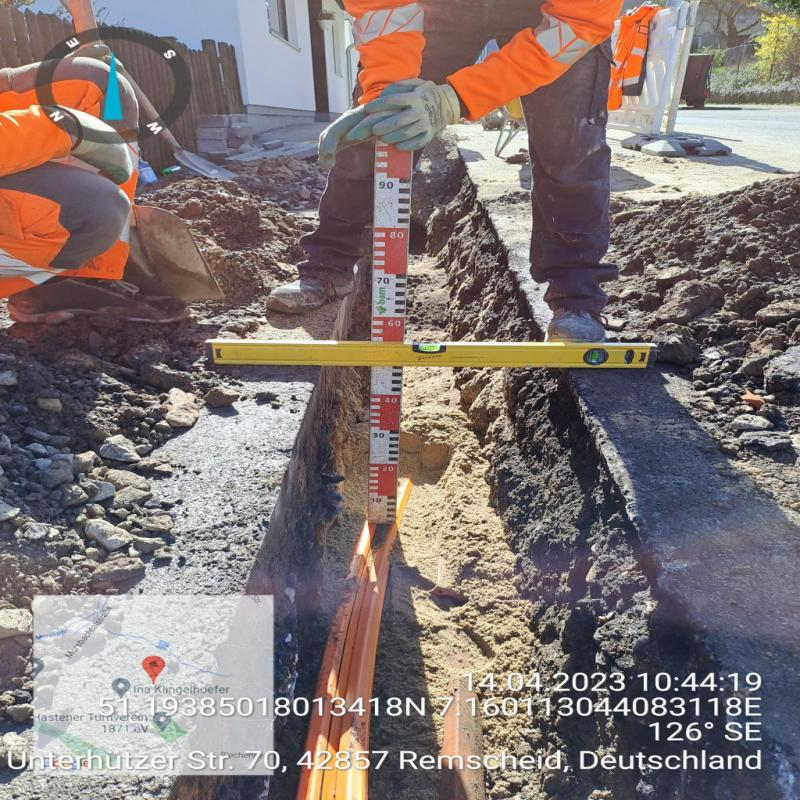Orang-Speednetrohrchen: (300, 473, 411, 799)
